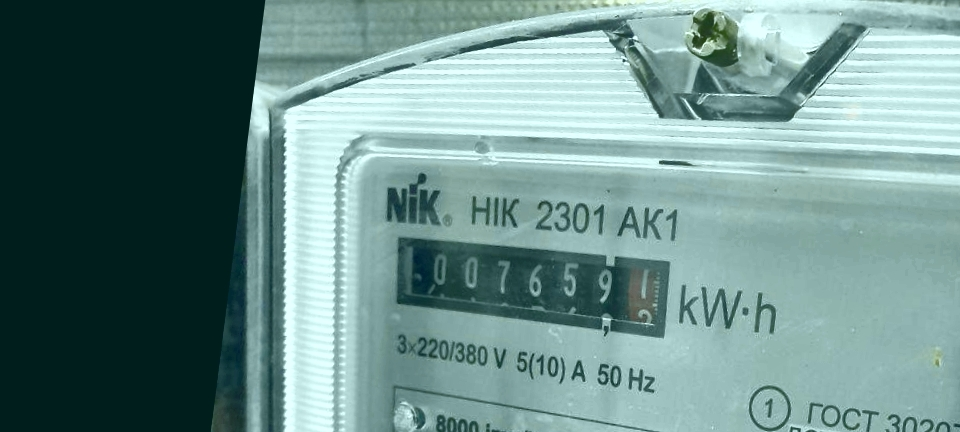0: (458, 251, 483, 293), (428, 249, 452, 290)
1: (631, 264, 655, 303)
5: (556, 259, 583, 301)
6: (522, 258, 549, 302)
7: (489, 255, 516, 297)
9: (592, 265, 617, 307)
screen: (379, 221, 680, 349)
